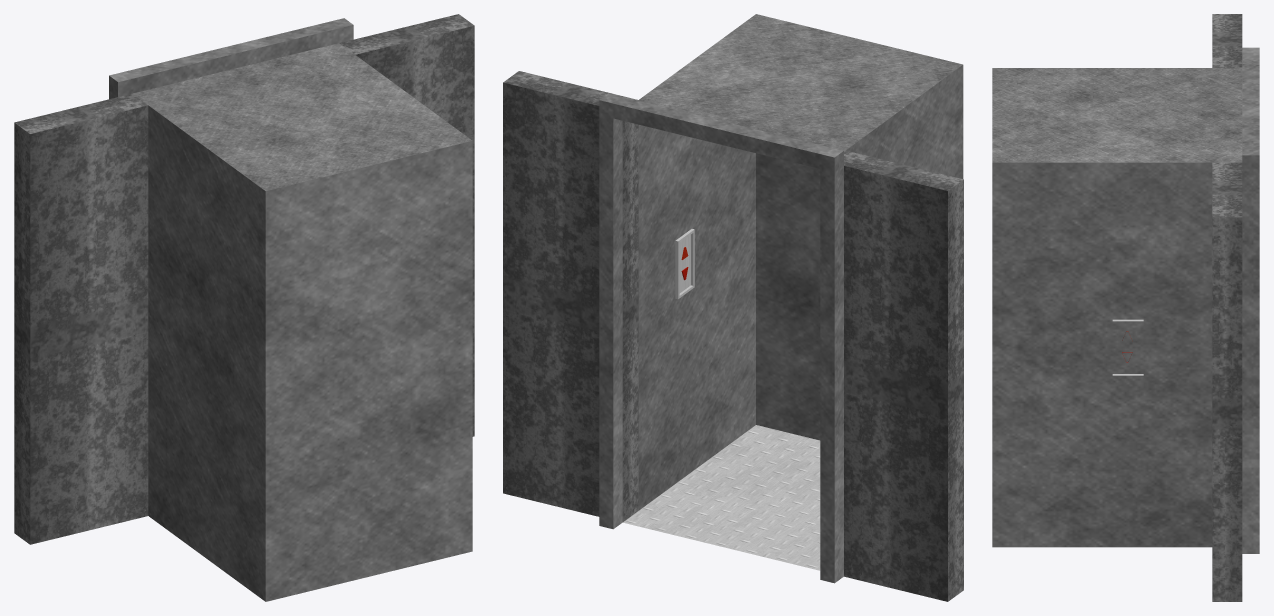
File: lift.fbx
3 views of the same model, side by side, from view 1: azimuth 30°, elevation 25°; view 2: azimuth 150°, elevation 25°; view 3: azimuth 270°, elevation 25° (orthographic). The views are drawn at different scales.
Parts seen in each view (by area): view 1: Lift, liftDoor_Right, liftDoor_Left; view 2: Lift, liftDoor_Right, liftDoor_Left, liftbutton; view 3: Lift, liftDoor_Left, liftDoor_Right.
Boxes of the visible parts, box(x1,y1,x2,y2) form: Lift: box(109, 18, 472, 601); liftDoor_Right: box(14, 93, 148, 544); liftDoor_Left: box(339, 14, 474, 436); Lift: box(599, 14, 963, 583); liftDoor_Right: box(844, 150, 963, 601); liftDoor_Left: box(503, 71, 638, 521); liftbutton: box(675, 229, 694, 299); Lift: box(992, 47, 1259, 553); liftDoor_Left: box(1212, 162, 1242, 601); liftDoor_Right: box(1212, 14, 1242, 67).
Size of the model in its own units: 2.79 by 1.55 by 2.55.
